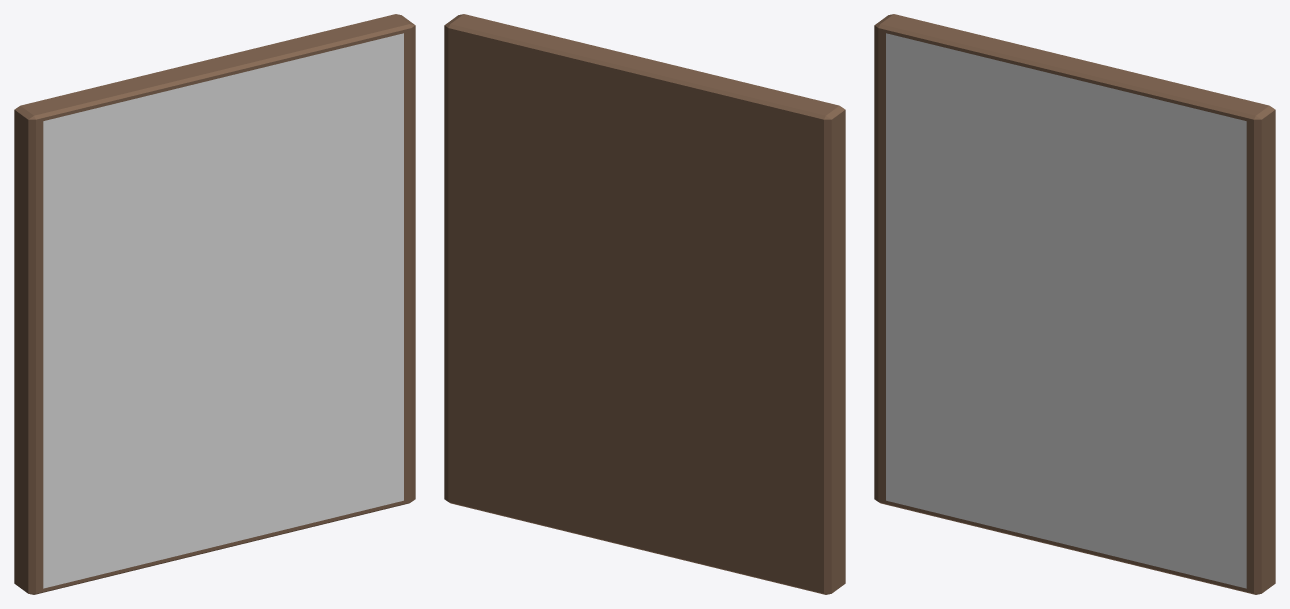
Rendered from Mirror.fbx.
The picture shows the model from 3 angles, left to right: view 1: azimuth 30°, elevation 25°; view 2: azimuth 150°, elevation 25°; view 3: azimuth 330°, elevation 25°; orthographic projection.
Visible parts, largest first — view 1: Mirror; view 2: Mirror; view 3: Mirror.
Boxes of the visible parts, x1,y1,x2,y2 form: Mirror: (14,14,415,594); Mirror: (444,14,845,594); Mirror: (874,14,1275,594).
Bounding box in the file's own units: 101 × 120 × 7.95.
